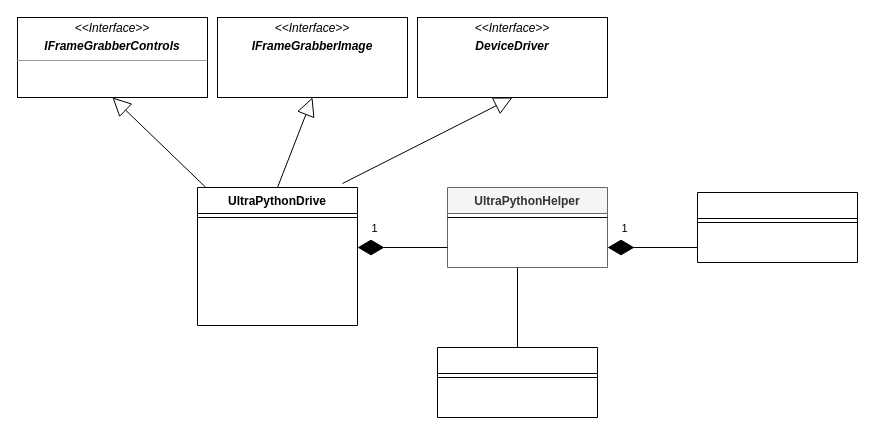
Image size: 875x435. Some labels were removed from this diagram. The shapes that lost their labels are listed below. From the top down, each one's centre as x and y in pixels, then its label:
(x=777, y=227): InterfaceForCApi
(x=517, y=382): Statistics
